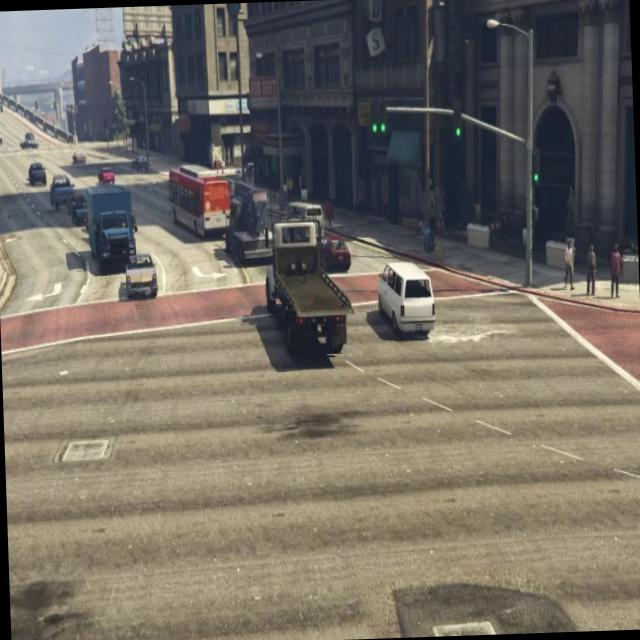Green-Signal: (364, 85, 395, 162), (523, 137, 550, 204), (448, 91, 471, 157)
